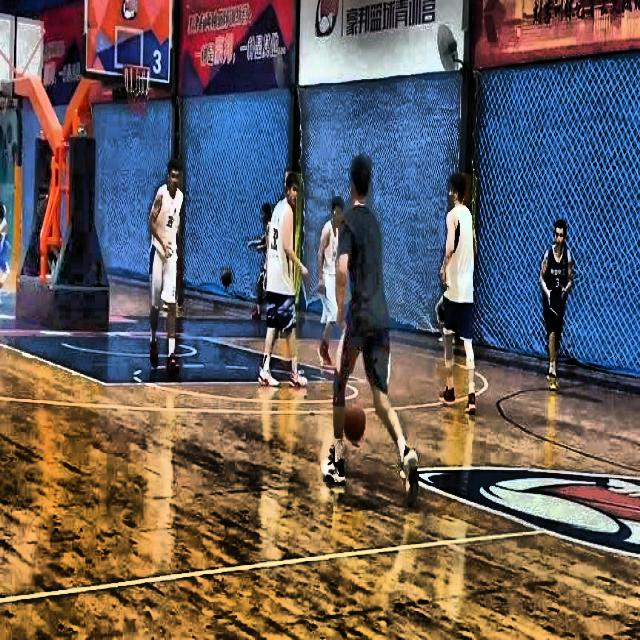rim: (124, 64, 152, 115)
